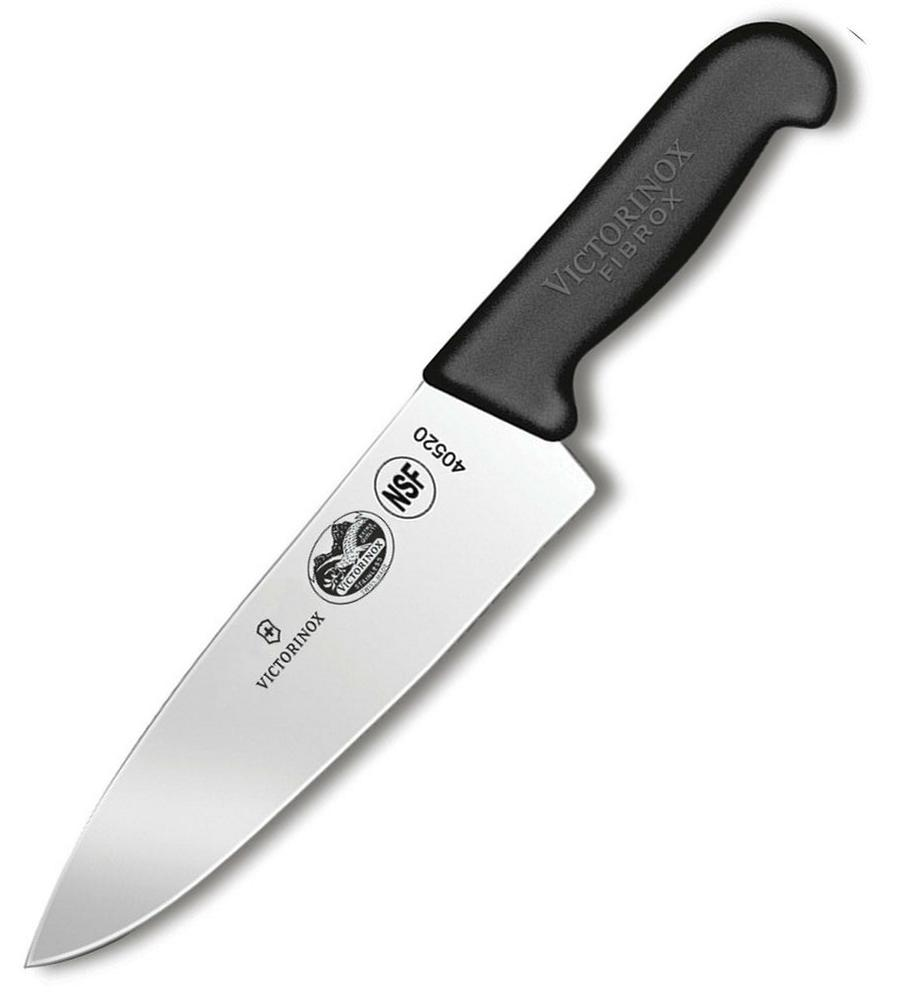knife: (26, 19, 839, 966)
